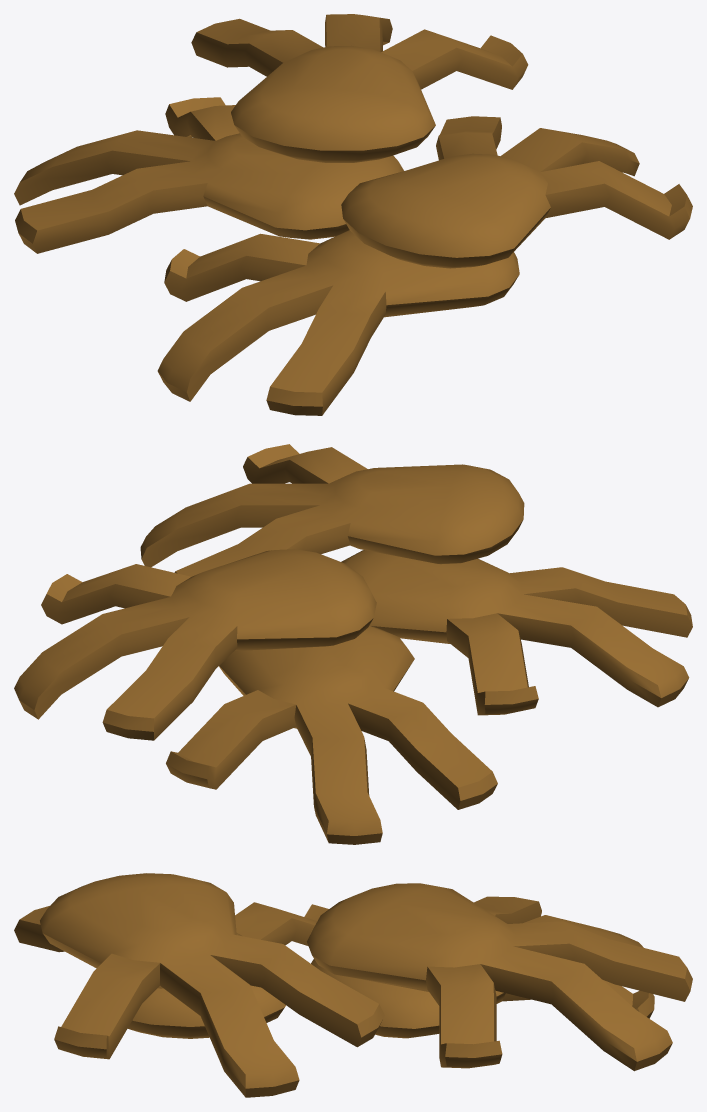
File: Hand.fbx
3 views of the same model, one above another, from view 1: azimuth 30°, elevation 25°; view 2: azimuth 150°, elevation 25°; view 3: azimuth 270°, elevation 25° (orthographic). The views are drawn at different scales.
Parts seen in each view (by area): view 1: hand_3; view 2: hand_3; view 3: hand_3.
Boxes of the visible parts, bbox=[...] form: hand_3: bbox=[14, 14, 692, 415]; hand_3: bbox=[14, 444, 692, 844]; hand_3: bbox=[14, 873, 692, 1097].
Bounding box in the file's own units: 775 × 221 × 901.
